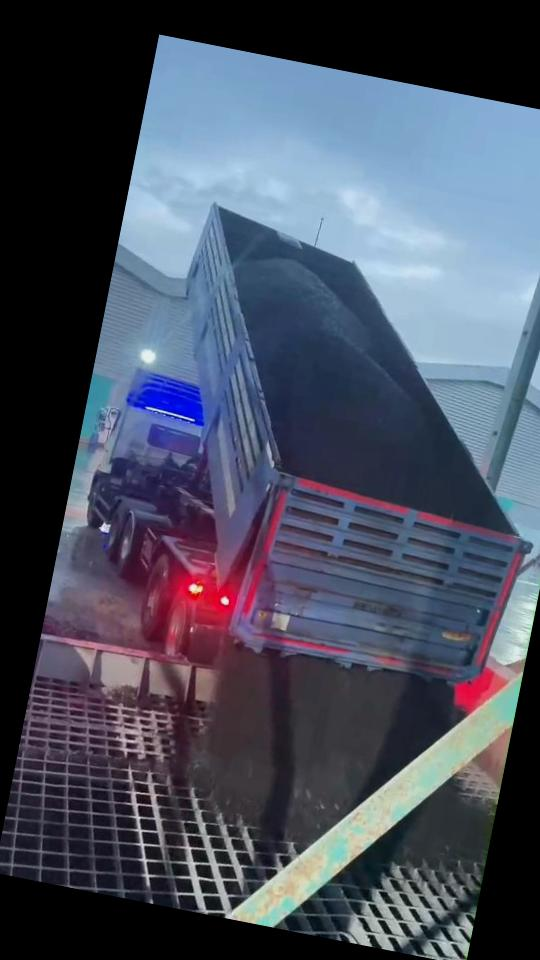gravel: (234, 259, 443, 507), (195, 644, 453, 843), (370, 780, 491, 865)
